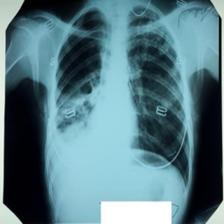tuberculosis: (45, 7, 194, 193)
